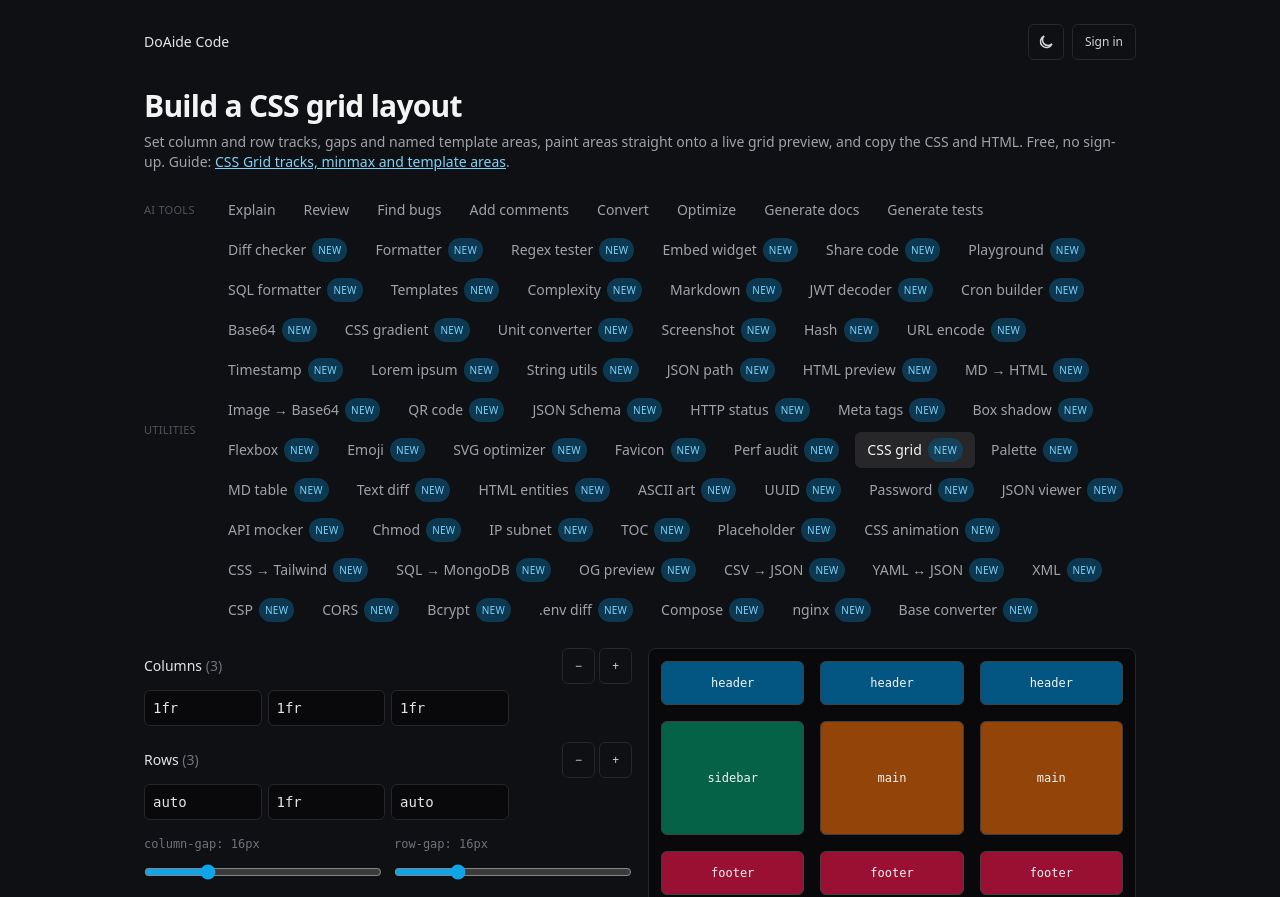
Test case: GridPage › changes the gap
Set the slider with test id "grid-row-gap" to "30" at (506, 872), box [394,864,632,880]
(page scrolled)
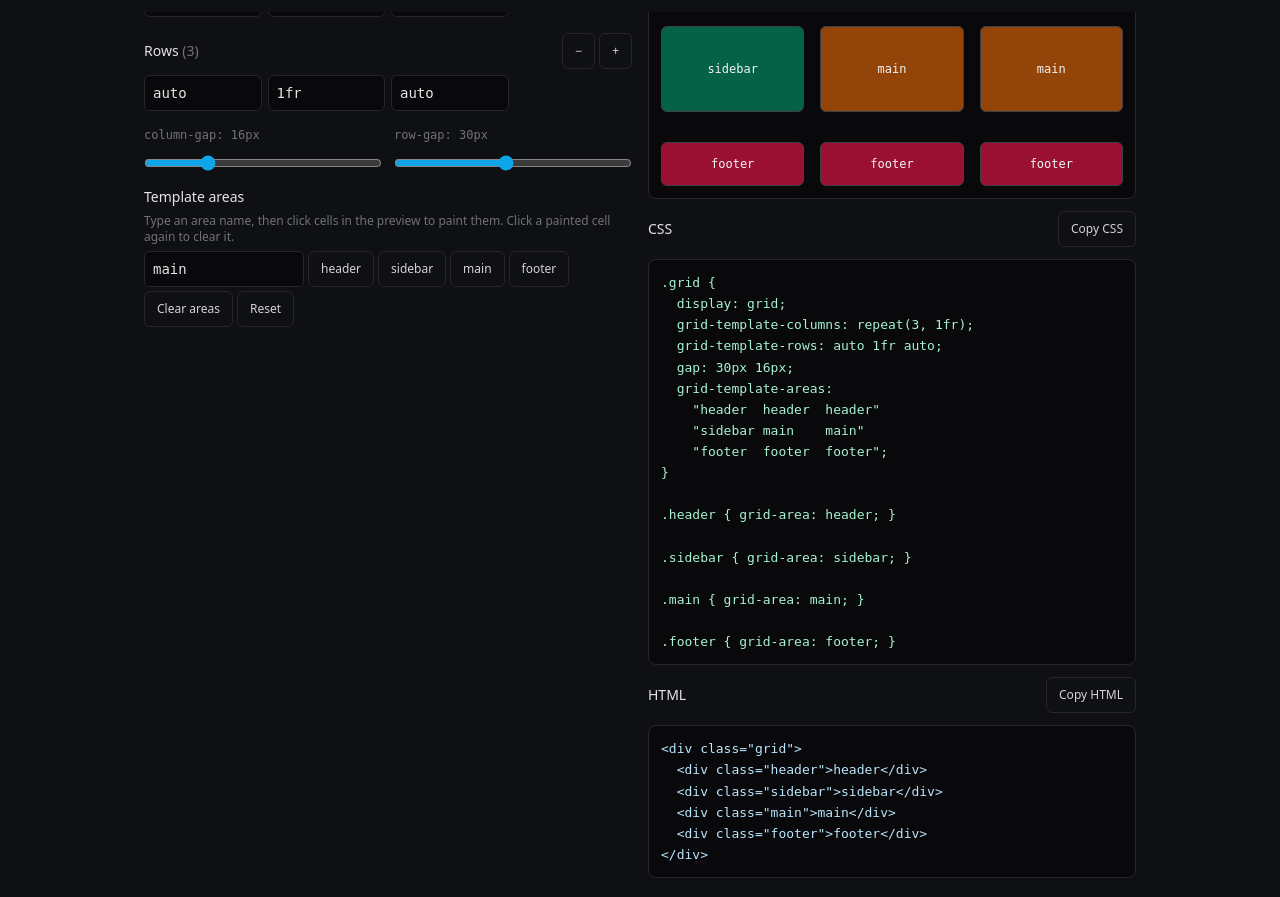
Now the text with test id "grid-css" shows "gap: 30px 16px;", box [661,275,974,649]
